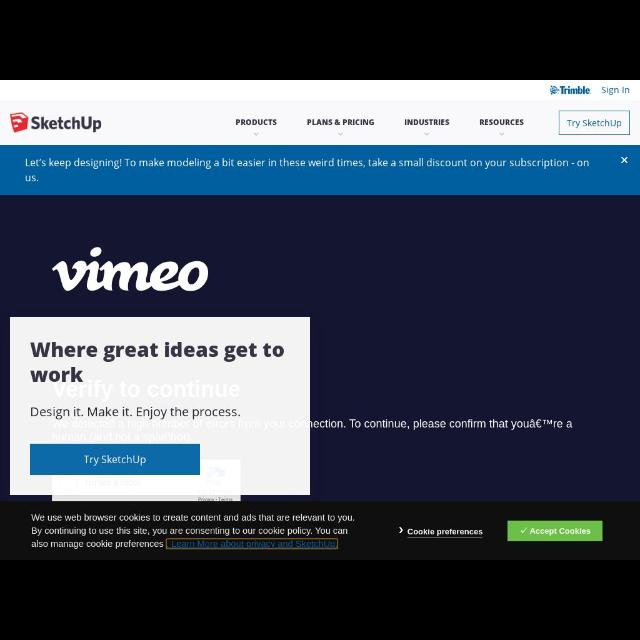icon: (620, 156, 628, 164), (520, 527, 528, 533), (399, 526, 403, 534), (338, 132, 344, 136), (424, 132, 430, 136), (254, 132, 258, 136), (500, 132, 504, 136)
image: (52, 246, 208, 292), (10, 112, 101, 132), (550, 86, 592, 96)
link: (166, 539, 338, 549)
spinner: (308, 120, 374, 136), (404, 120, 450, 136), (480, 120, 524, 136), (236, 120, 276, 136)
text: (26, 158, 588, 182), (31, 514, 355, 548), (30, 342, 284, 382), (311, 419, 573, 431), (31, 406, 241, 419), (407, 528, 483, 538), (84, 456, 146, 466), (530, 528, 590, 536), (307, 118, 375, 125), (567, 120, 621, 128), (406, 120, 450, 126), (480, 119, 524, 125), (602, 86, 630, 95), (237, 120, 277, 126)
textbutton: (30, 444, 200, 474), (508, 520, 602, 542), (560, 112, 630, 134)
toolbar: (1, 101, 639, 145)
